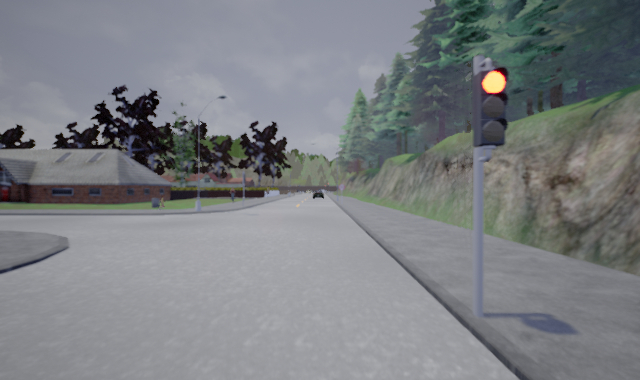pedestrian: (158, 194, 166, 210), (229, 186, 236, 203)
traffic_light: (472, 67, 509, 149)
vehicle: (310, 190, 325, 200)
